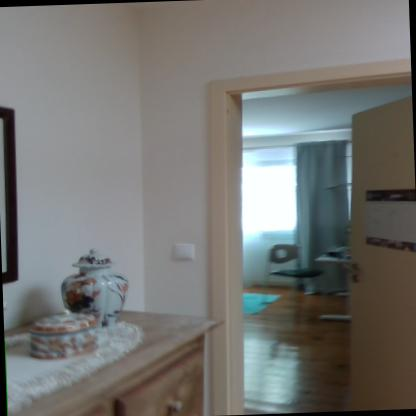semi: (199, 67, 416, 416)
